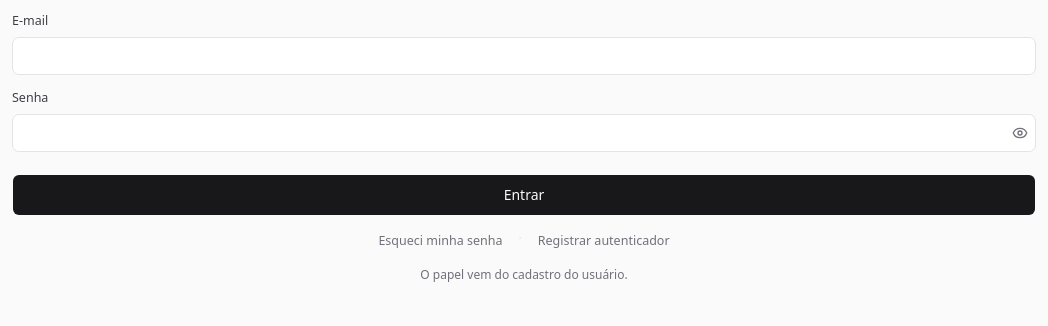
LoginForm › mostra erro genérico quando a API rejeita — sem dizer se foi e-mail ou senha
Type "dist@cartorio.com" into the field labelled "E-mail" at (524, 56), box [12, 37, 1036, 75]
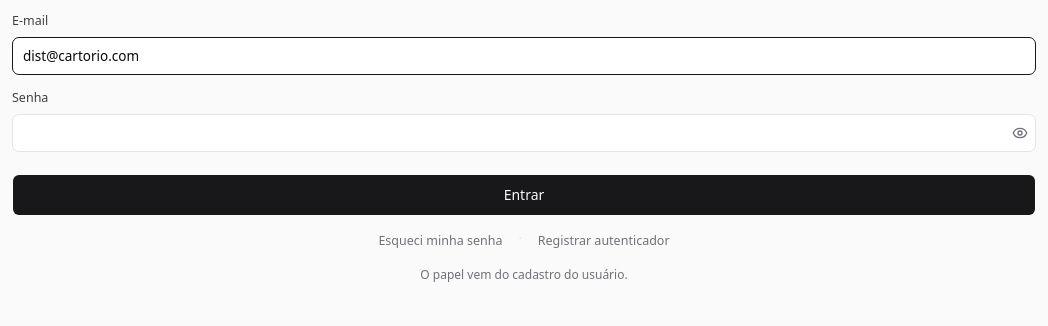
Type "errada" into the password field labelled "Senha" at (524, 133), box [12, 114, 1036, 152]
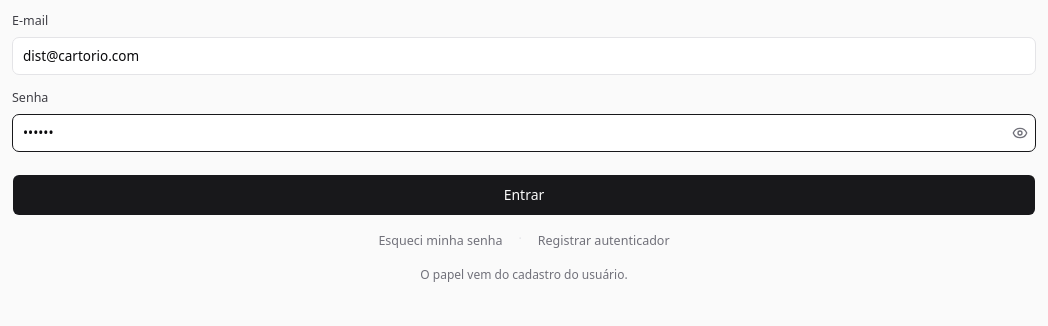
Click the button "Entrar" at (524, 195), box [12, 174, 1036, 216]
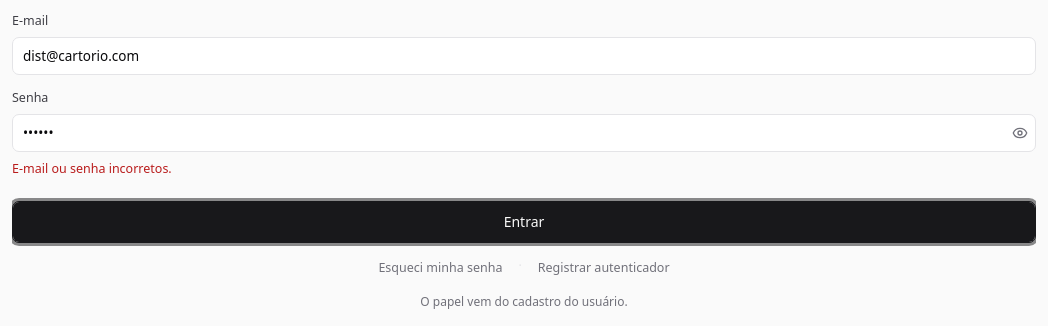
Check: the text "E-mail ou senha incorretos." is shown, box [12, 160, 172, 177]
